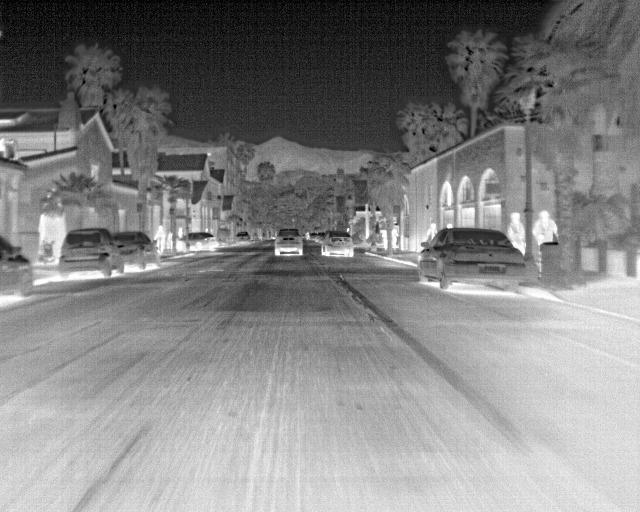bicycle: (413, 225, 526, 292), (59, 227, 125, 278), (0, 233, 39, 299), (110, 232, 160, 272), (320, 228, 356, 256), (271, 233, 305, 256), (188, 230, 218, 252), (232, 227, 252, 245)
empty: (531, 209, 559, 260), (505, 209, 529, 256), (152, 224, 167, 257), (424, 222, 441, 244)
